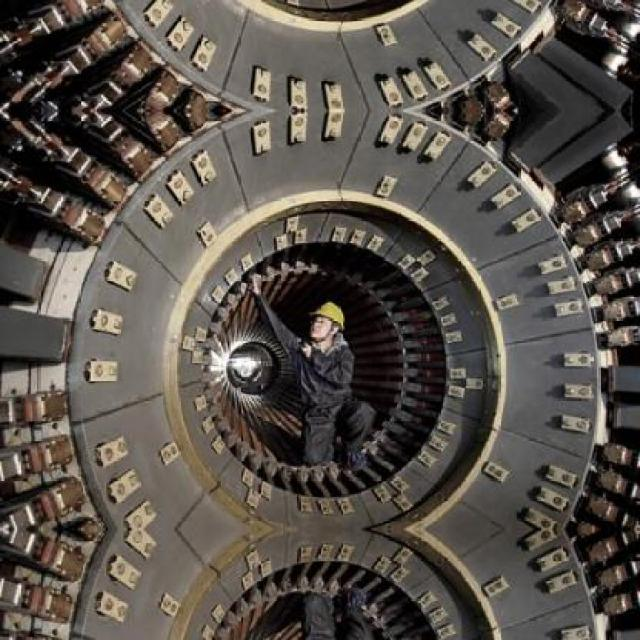helmet: (304, 294, 344, 348)
